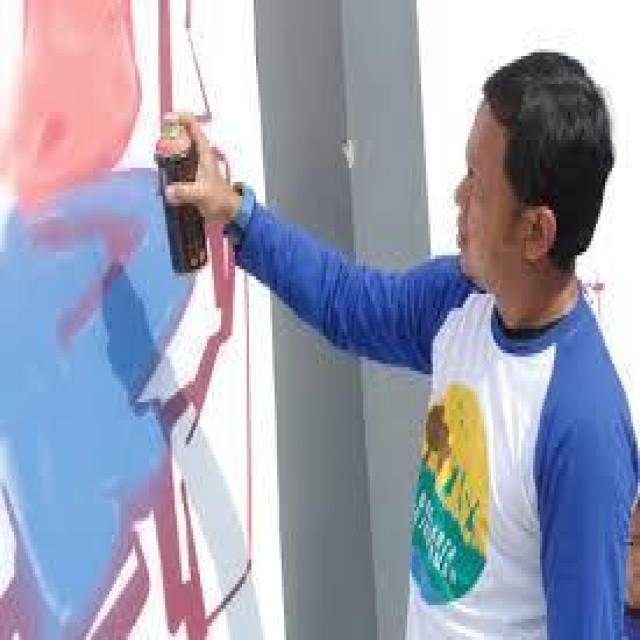nonspitting: (0, 0, 256, 640)
